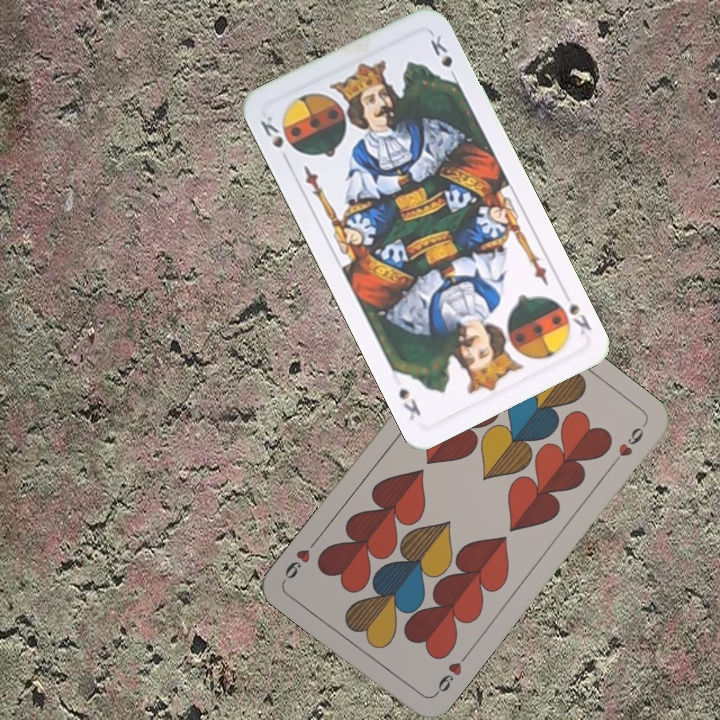H9: (429, 649, 471, 700)
SK: (558, 285, 594, 337), (256, 111, 286, 151)
